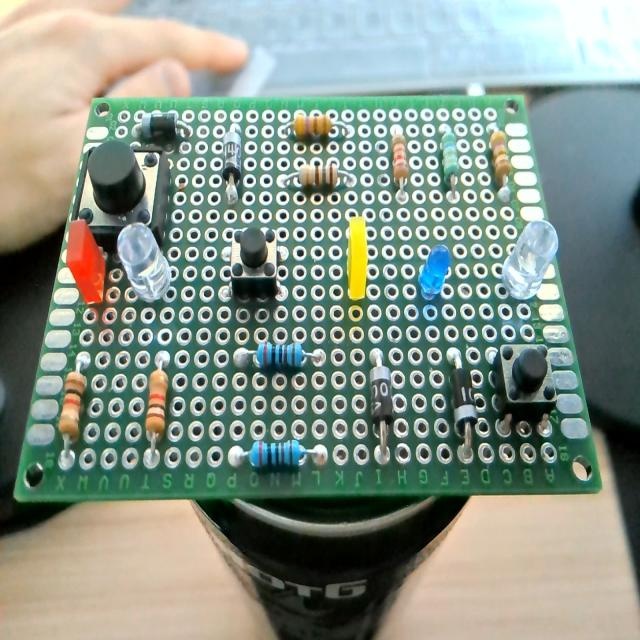diode: (448, 346, 478, 451), (369, 348, 395, 462), (134, 111, 192, 150), (221, 127, 241, 206)
led: (501, 219, 560, 301), (117, 222, 172, 303), (65, 217, 106, 306), (341, 212, 371, 304), (418, 244, 451, 301)
resistor: (229, 438, 329, 470), (144, 361, 177, 452), (234, 338, 324, 370), (57, 360, 90, 444), (280, 162, 354, 193), (442, 130, 462, 202), (490, 129, 511, 186), (391, 134, 409, 190), (294, 114, 334, 139)
switch: (74, 140, 172, 256), (492, 345, 556, 435), (230, 225, 281, 302)
